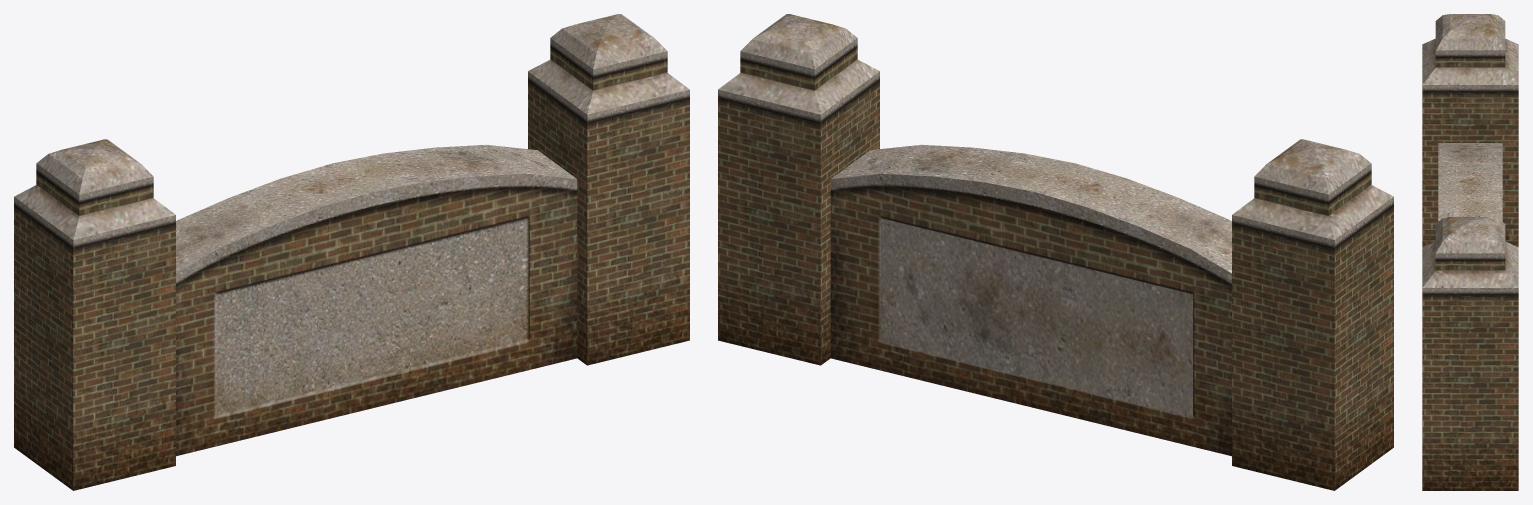
Rendered from nsign_slum.fbx.
3 renders of one model, left to right at view 1: azimuth 30°, elevation 25°; view 2: azimuth 150°, elevation 25°; view 3: azimuth 270°, elevation 25°, orthographic. The views are drawn at different scales.
Visible parts, largest first — view 1: mesh_0; view 2: mesh_0; view 3: mesh_0.
Boxes of the visible parts, box(x1,y1,x2,y2) form: mesh_0: box(14, 14, 689, 490); mesh_0: box(718, 14, 1393, 490); mesh_0: box(1422, 14, 1518, 490).
Size of the model in its own units: 360 by 172 by 60.
Materials: 1 (1 with a texture image).
